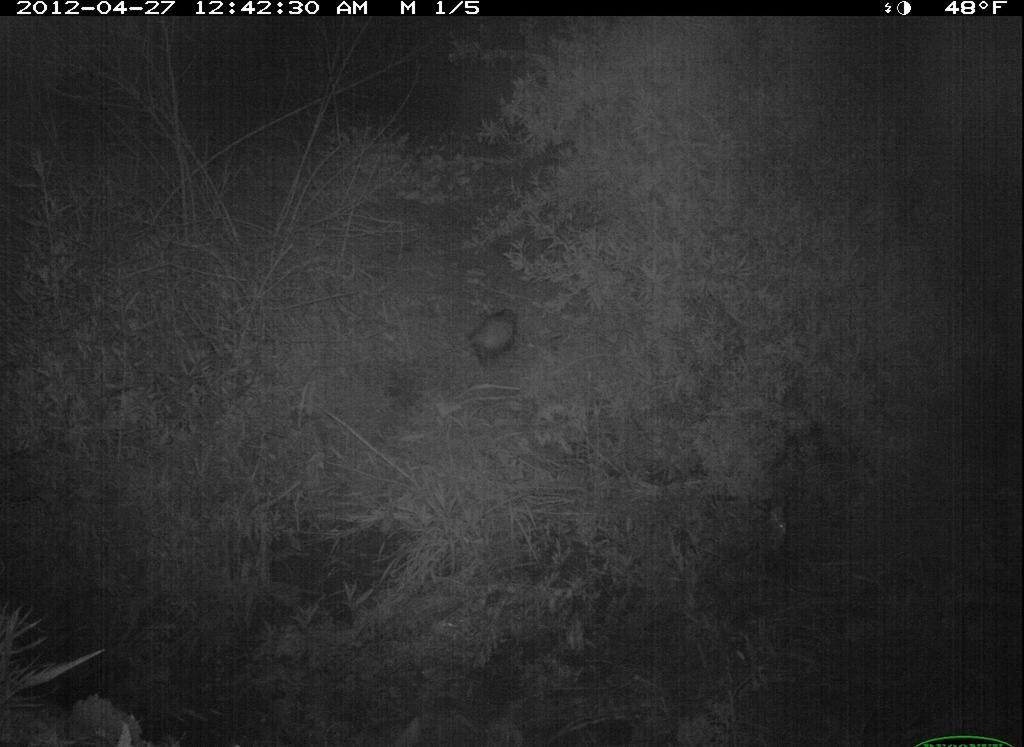opossum: (459, 303, 534, 374)
